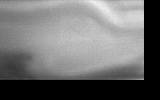cell: (69, 14, 91, 34), (74, 18, 91, 36), (70, 19, 87, 35)
